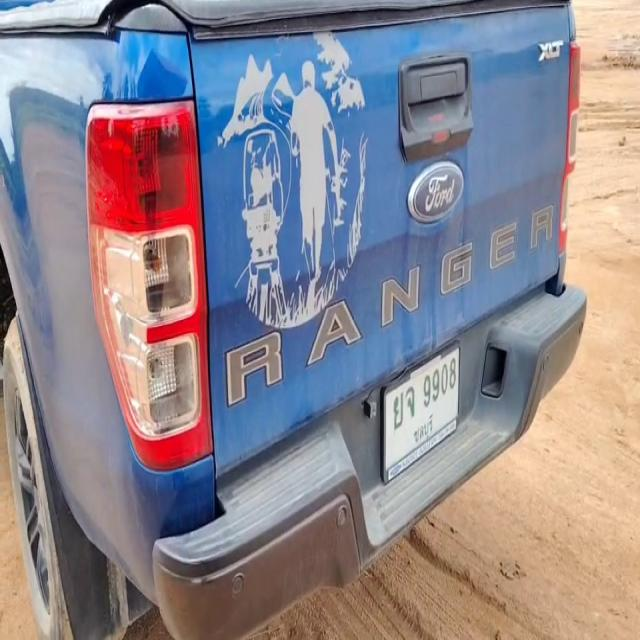Digit: (422, 358, 456, 410)
Licenseplate: (379, 335, 463, 491)
Provincename: (414, 412, 434, 442)
Thaichar: (394, 387, 414, 428)
